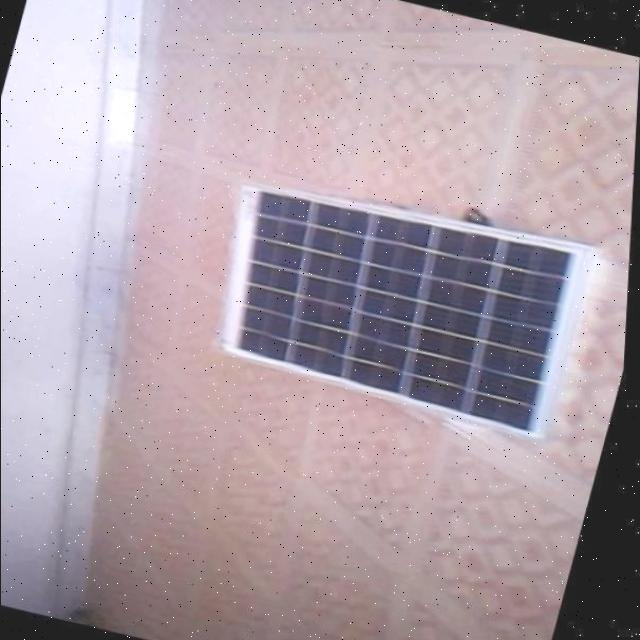Normal Solar Panel: (198, 162, 602, 438)
